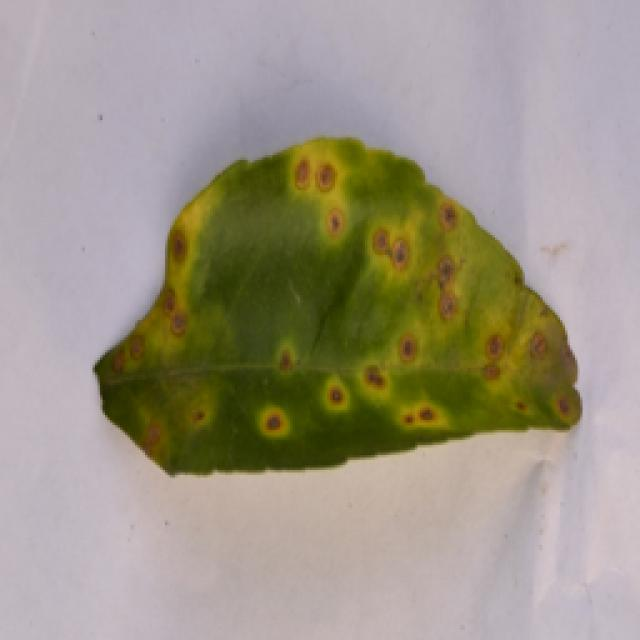canker: (89, 130, 594, 484)
